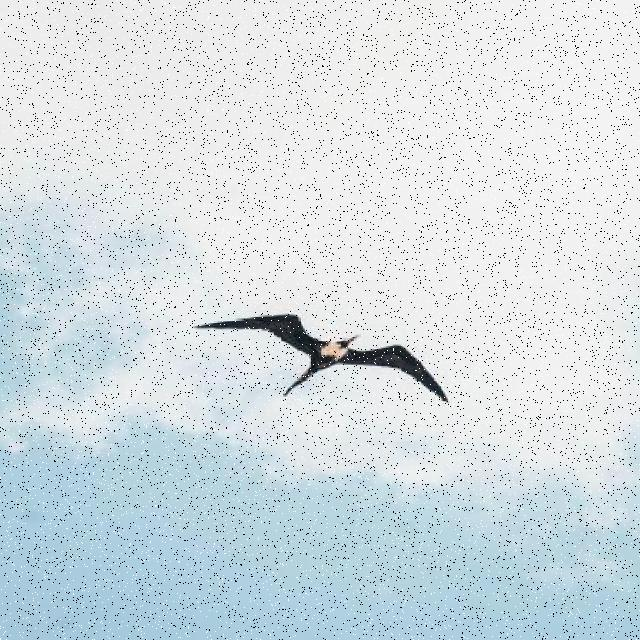bird: (193, 315, 450, 403)
